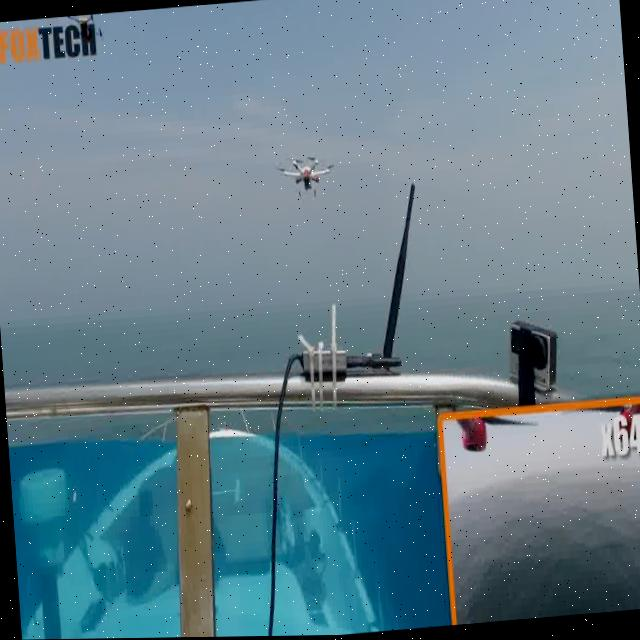drone: (276, 148, 342, 210)
